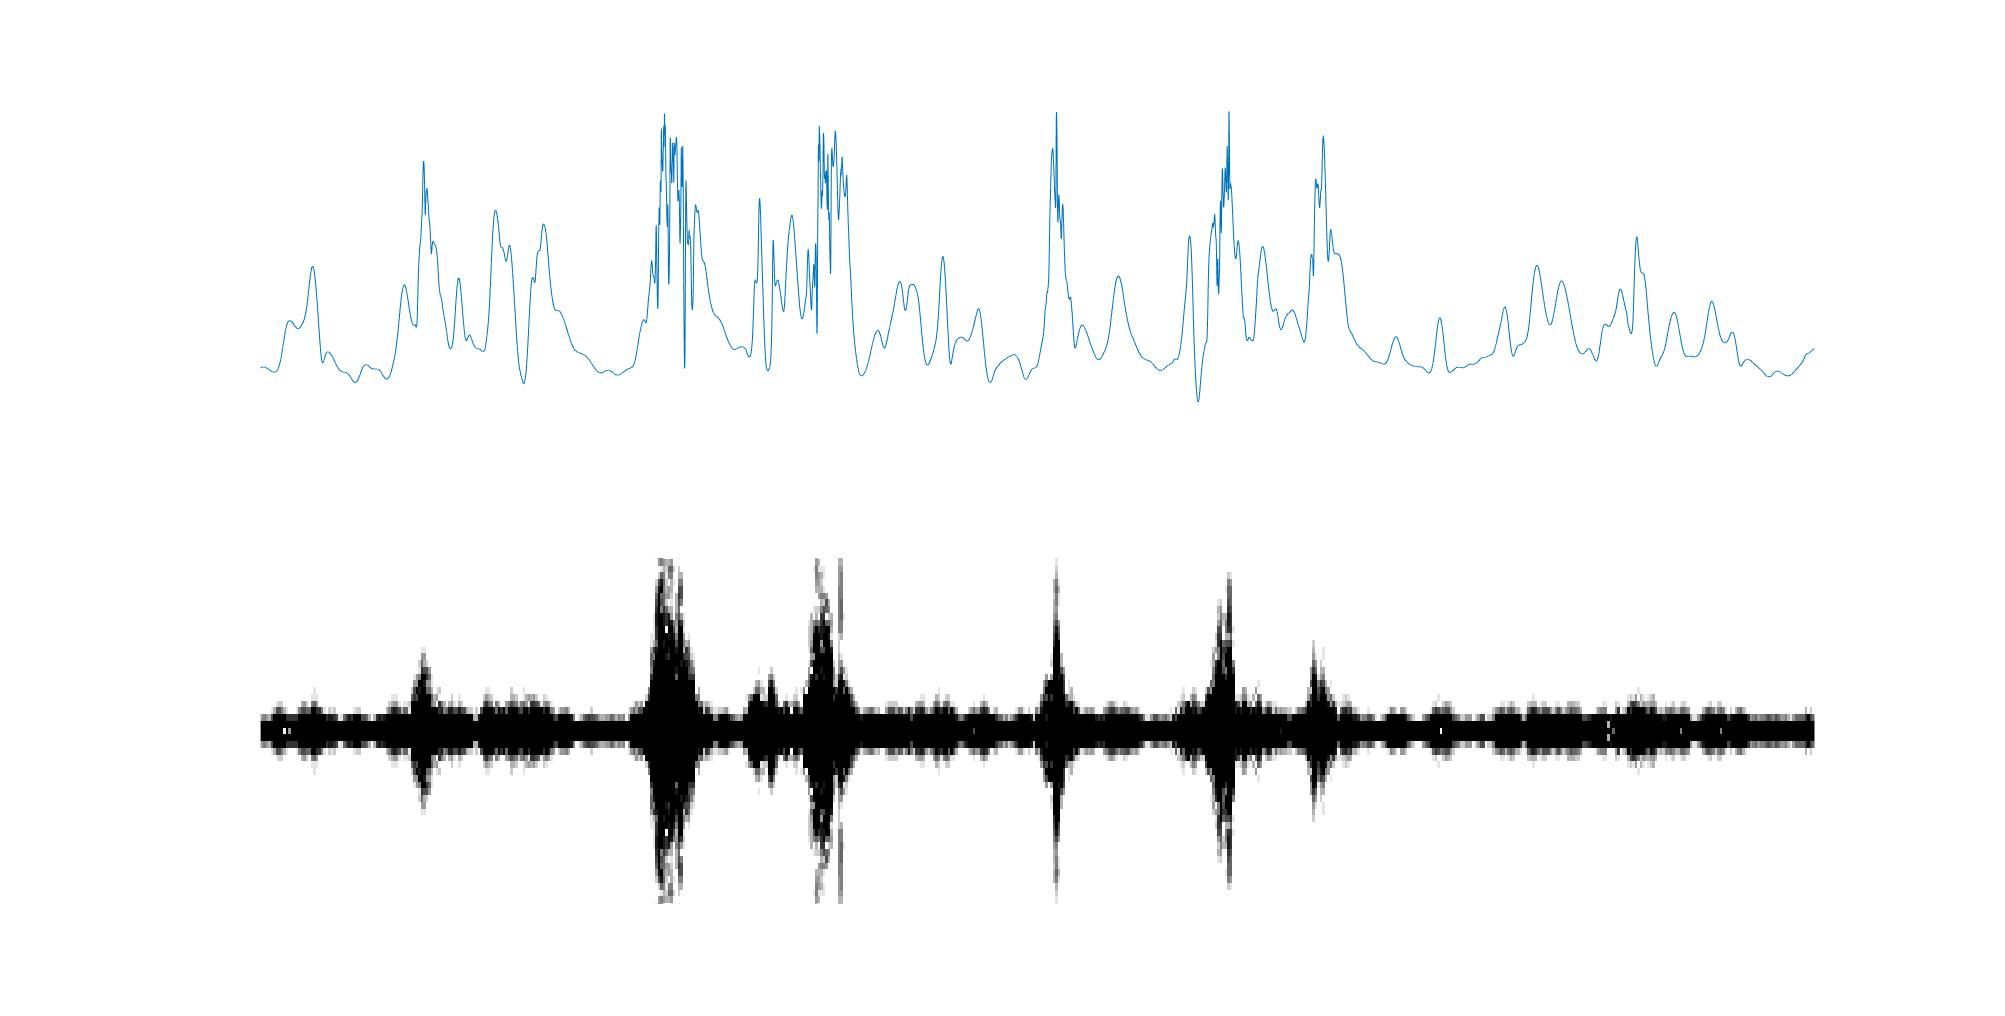spot: (636, 557, 697, 914), (1189, 575, 1245, 888), (808, 557, 854, 908), (1032, 559, 1074, 895)
